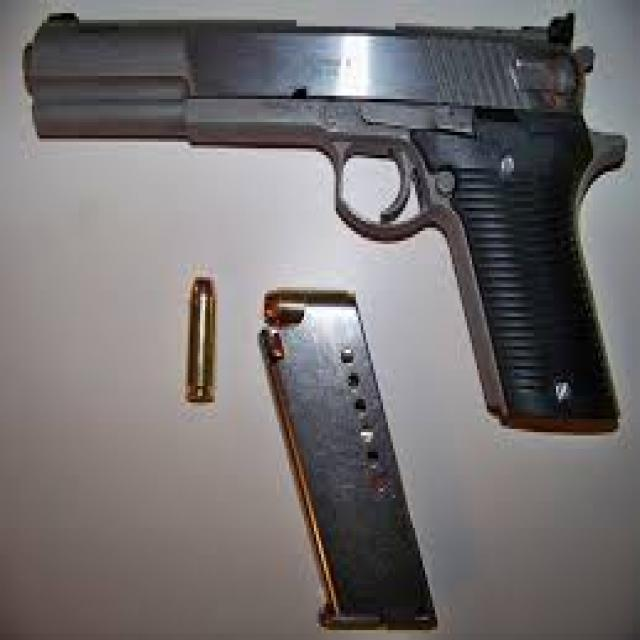gun: (20, 8, 619, 374)
